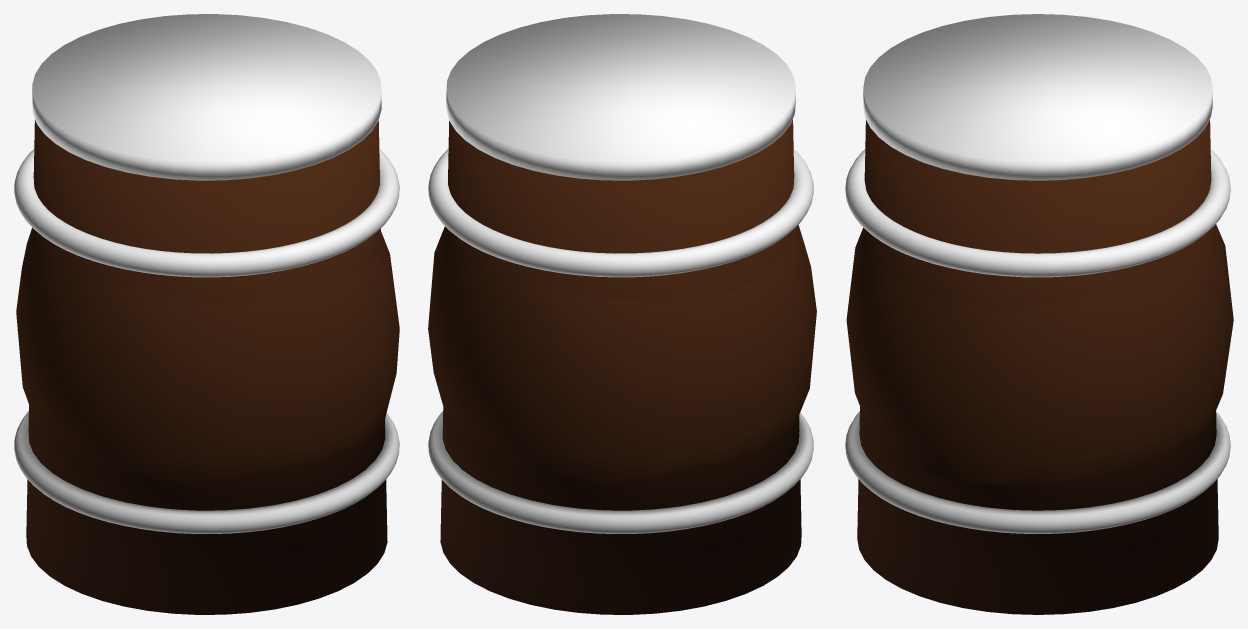
File: wooden-barrel.obj
The picture shows the model from 3 angles, left to right: view 1: azimuth 30°, elevation 25°; view 2: azimuth 150°, elevation 25°; view 3: azimuth 270°, elevation 25°; orthographic projection.
Parts seen in each view (by area): view 1: wooden-barrel; view 2: wooden-barrel; view 3: wooden-barrel.
Boxes of the visible parts, bbox=[...] form: wooden-barrel: bbox=[14, 14, 399, 614]; wooden-barrel: bbox=[428, 14, 816, 614]; wooden-barrel: bbox=[845, 14, 1233, 614].
Size of the model in its own units: 0.6444 by 0.8361 by 0.6449.
